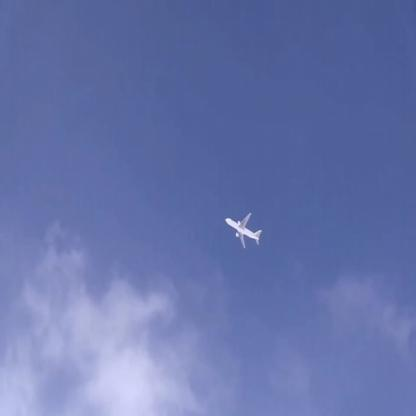CIV_Plane: (226, 214, 263, 249)
